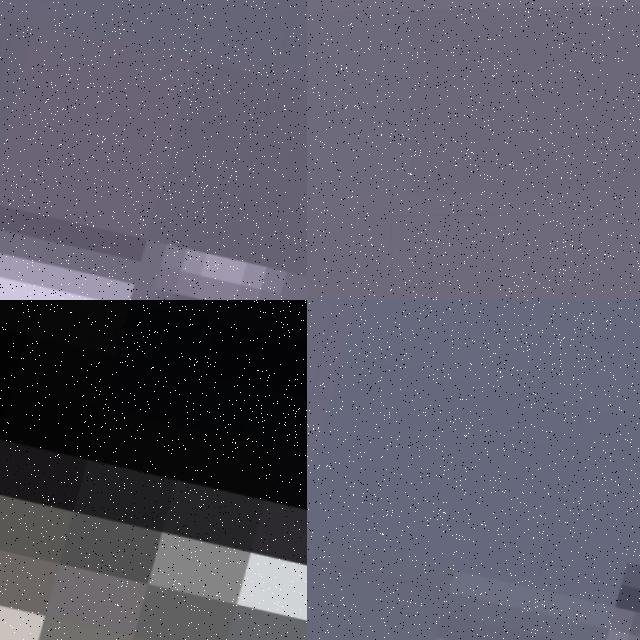0: (307, 300, 640, 640), (0, 0, 307, 300)
drone: (0, 300, 307, 640)
